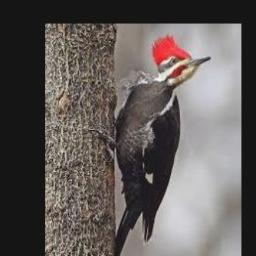Woodpecker: (89, 36, 210, 256)
